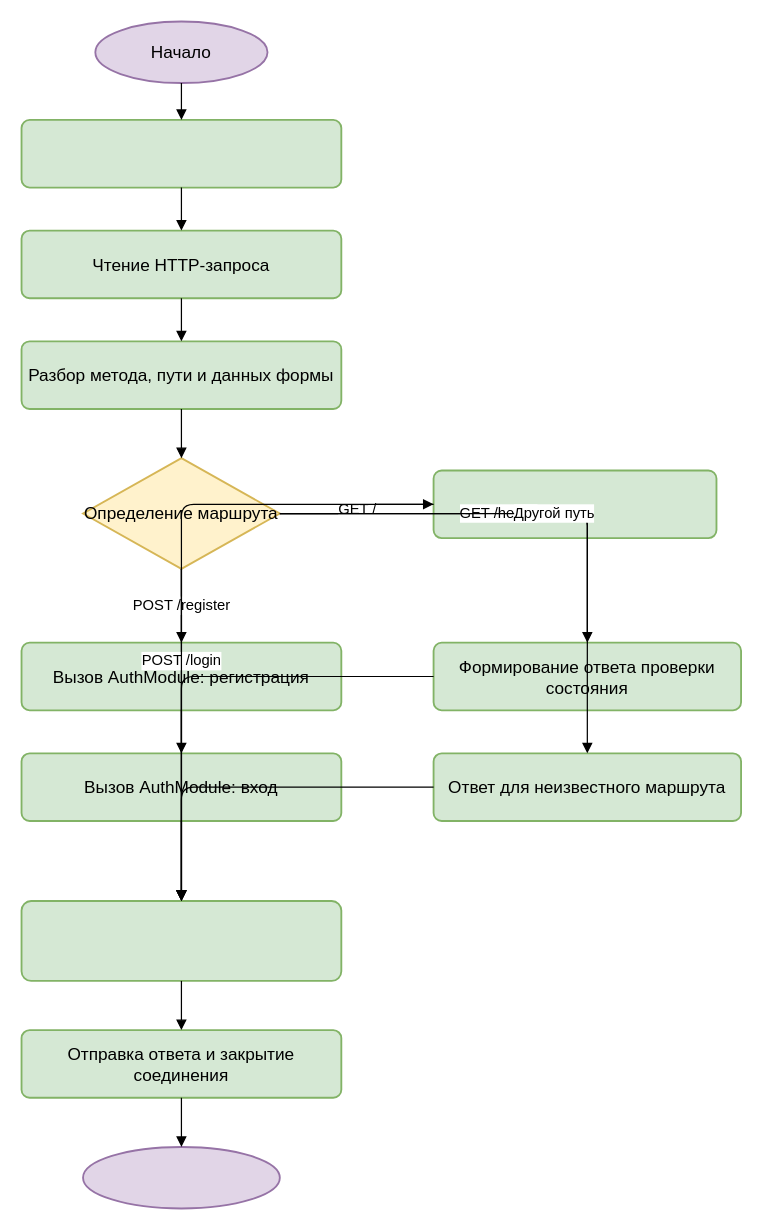
Image size: 764x1231. Some labels were removed from this diagram. Each missing label, with the box of its shape:
Завершение обработки: (82, 1145, 280, 1209)
Ожидание и принятие TCP-подключения: (20, 118, 342, 188)
Формирование HTTP-ответа (статус, заголовки, тело): (20, 899, 342, 981)
Формирование главной страницы: (432, 469, 717, 538)
